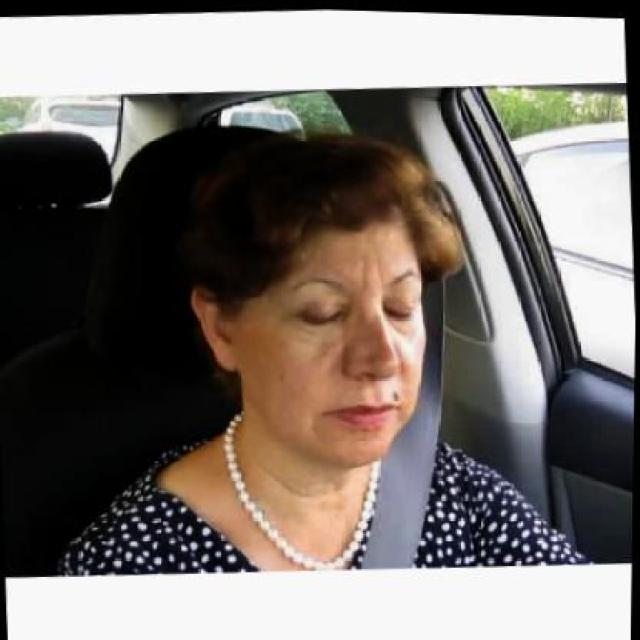inattentif: (181, 124, 437, 471)
